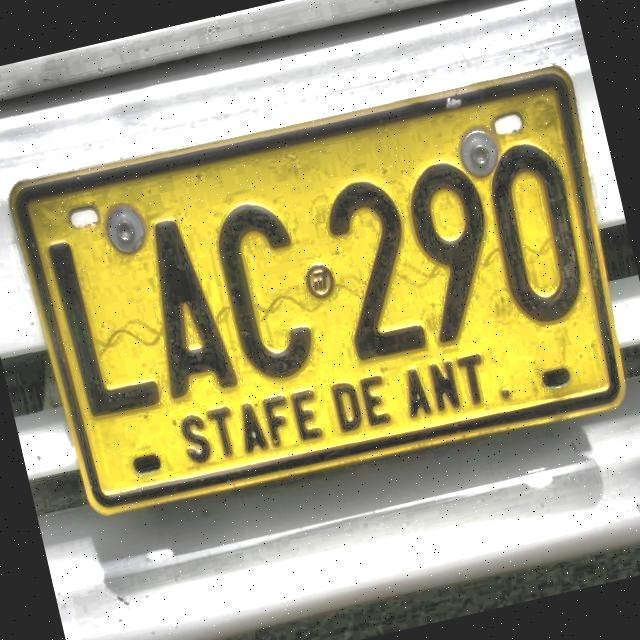plate: (18, 78, 617, 506)
